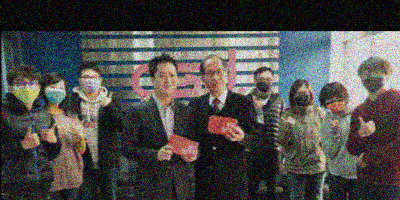with_mask: (13, 78, 41, 104), (362, 68, 387, 95), (45, 82, 67, 106), (81, 73, 100, 94), (293, 89, 312, 108), (328, 95, 347, 114), (257, 76, 272, 94)
without_mask: (154, 70, 180, 96), (204, 66, 226, 90)
